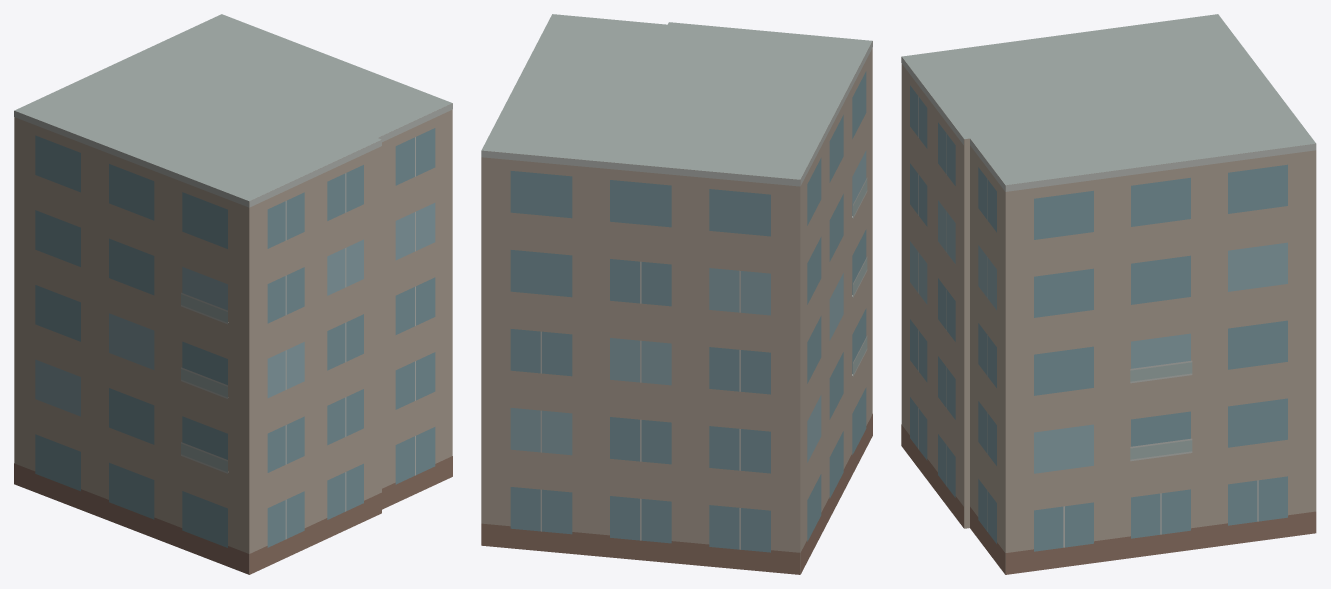
The model's file is survey-upis-32991892.glb.
The picture shows the model from 3 angles, left to right: view 1: azimuth 30°, elevation 25°; view 2: azimuth 150°, elevation 25°; view 3: azimuth 270°, elevation 25°; orthographic projection. The views are drawn at different scales.
Parts seen in each view (by area): view 1: survey-upis-32991892.tmp; view 2: survey-upis-32991892.tmp; view 3: survey-upis-32991892.tmp.
Boxes of the visible parts, left/top/right/bottom form: survey-upis-32991892.tmp: left=14, top=14, right=452, bottom=574; survey-upis-32991892.tmp: left=481, top=14, right=872, bottom=574; survey-upis-32991892.tmp: left=901, top=14, right=1316, bottom=574.
Bounding box in the file's own units: 13.49 × 14.3 × 13.81.
